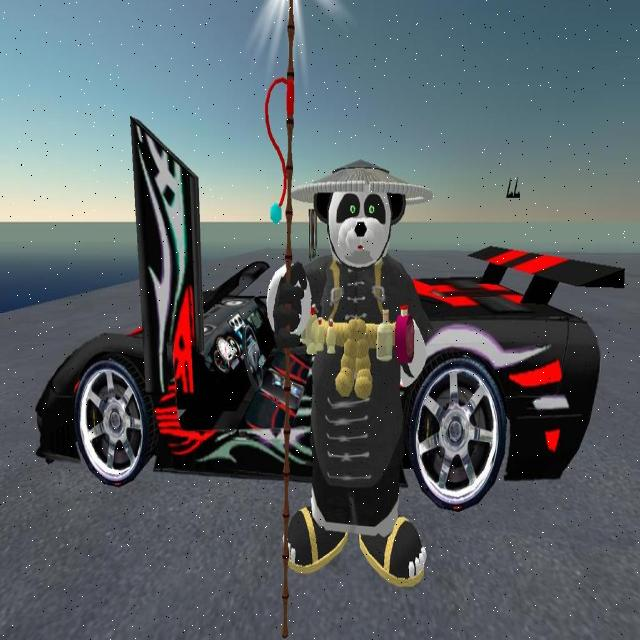panda: (267, 152, 427, 578)
